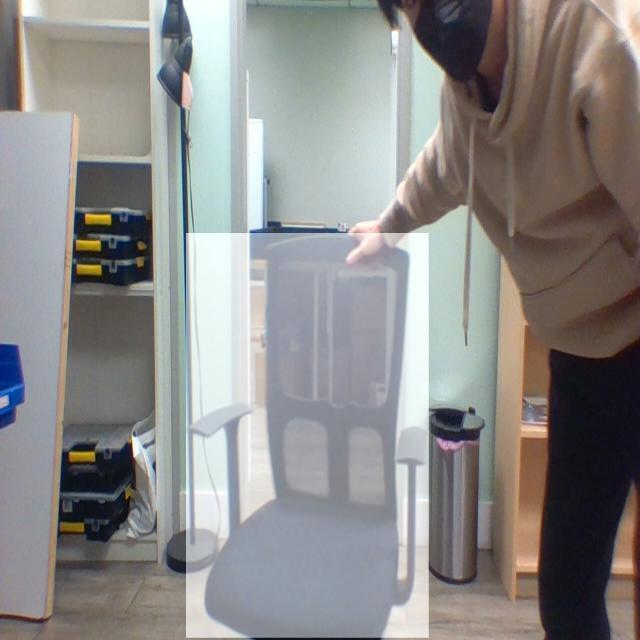chair: (186, 233, 430, 639)
